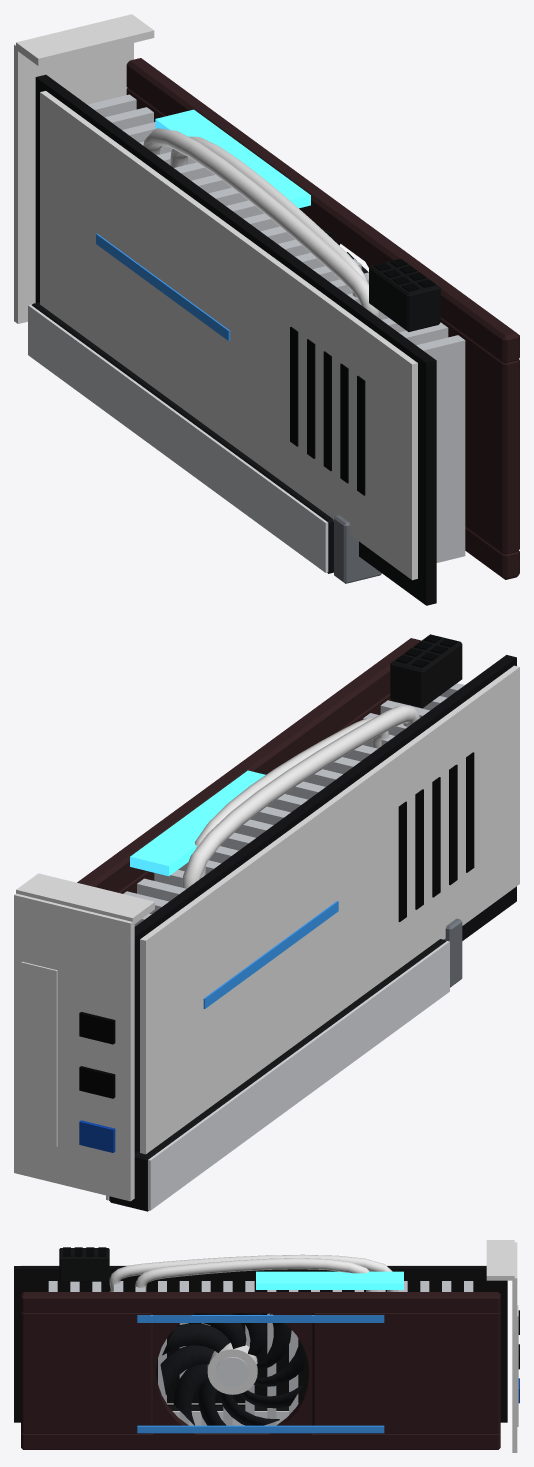
File: hwm_gpu_gtx1650.glb
The picture shows the model from 3 angles, top to bottom: view 1: azimuth 30°, elevation 25°; view 2: azimuth 150°, elevation 25°; view 3: azimuth 270°, elevation 25°; orthographic projection. The views are drawn at different scales.
Parts seen in each view (by area): view 1: Card_0, Slot_0; view 2: Card_0, Slot_0; view 3: Card_0, Rotor_X_0, Slot_0.
Part boxes in pixels (left/top/right/bottom): Card_0: left=14, top=14, right=519, bottom=605; Slot_0: left=28, top=302, right=381, bottom=583; Card_0: left=14, top=634, right=519, bottom=1201; Slot_0: left=106, top=918, right=462, bottom=1211; Card_0: left=14, top=1240, right=519, bottom=1452; Rotor_X_0: left=160, top=1313, right=304, bottom=1425; Slot_0: left=167, top=1404, right=288, bottom=1425.
Size of the model in its own units: 0.0376 by 0.0916 by 0.2152.
